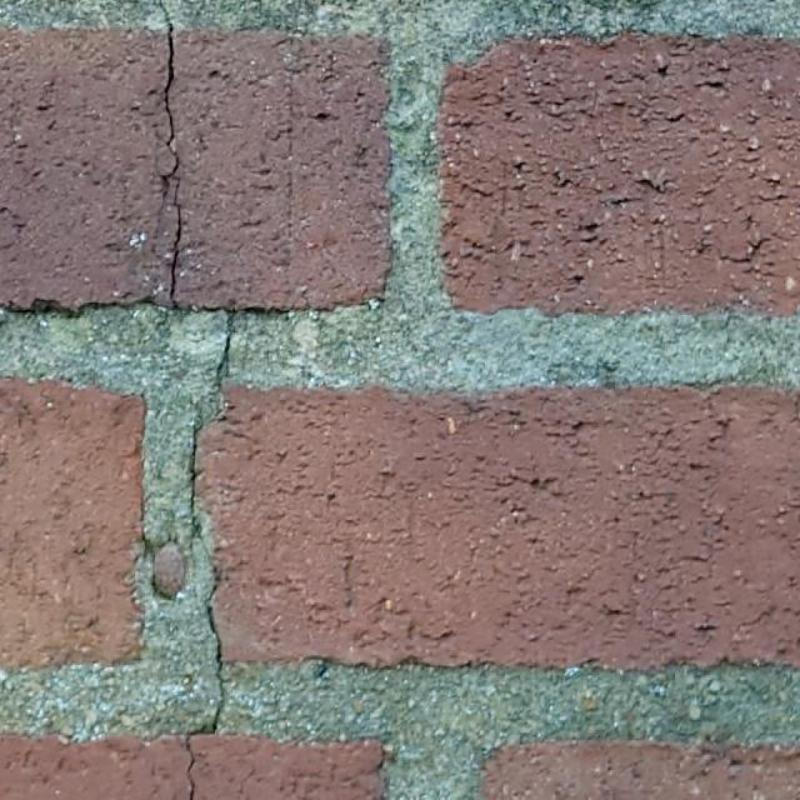pothole: (183, 413, 225, 800), (159, 149, 183, 302), (157, 1, 175, 146), (216, 311, 239, 390)
